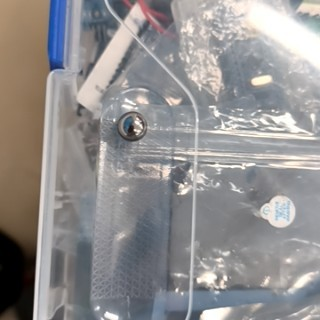ironball: (116, 108, 148, 142)
